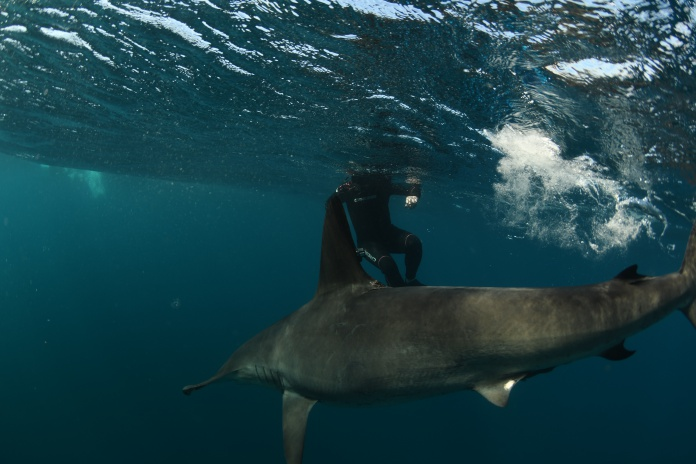Hammer: (128, 184, 695, 457)
